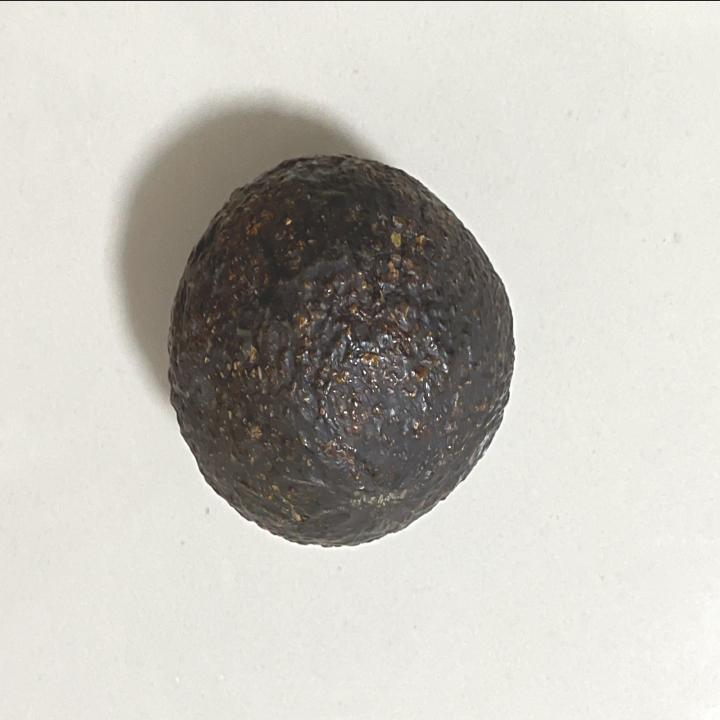Level2: (160, 146, 522, 554)
